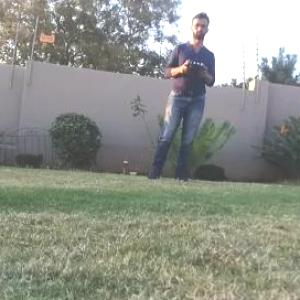follow: (139, 5, 218, 186)
